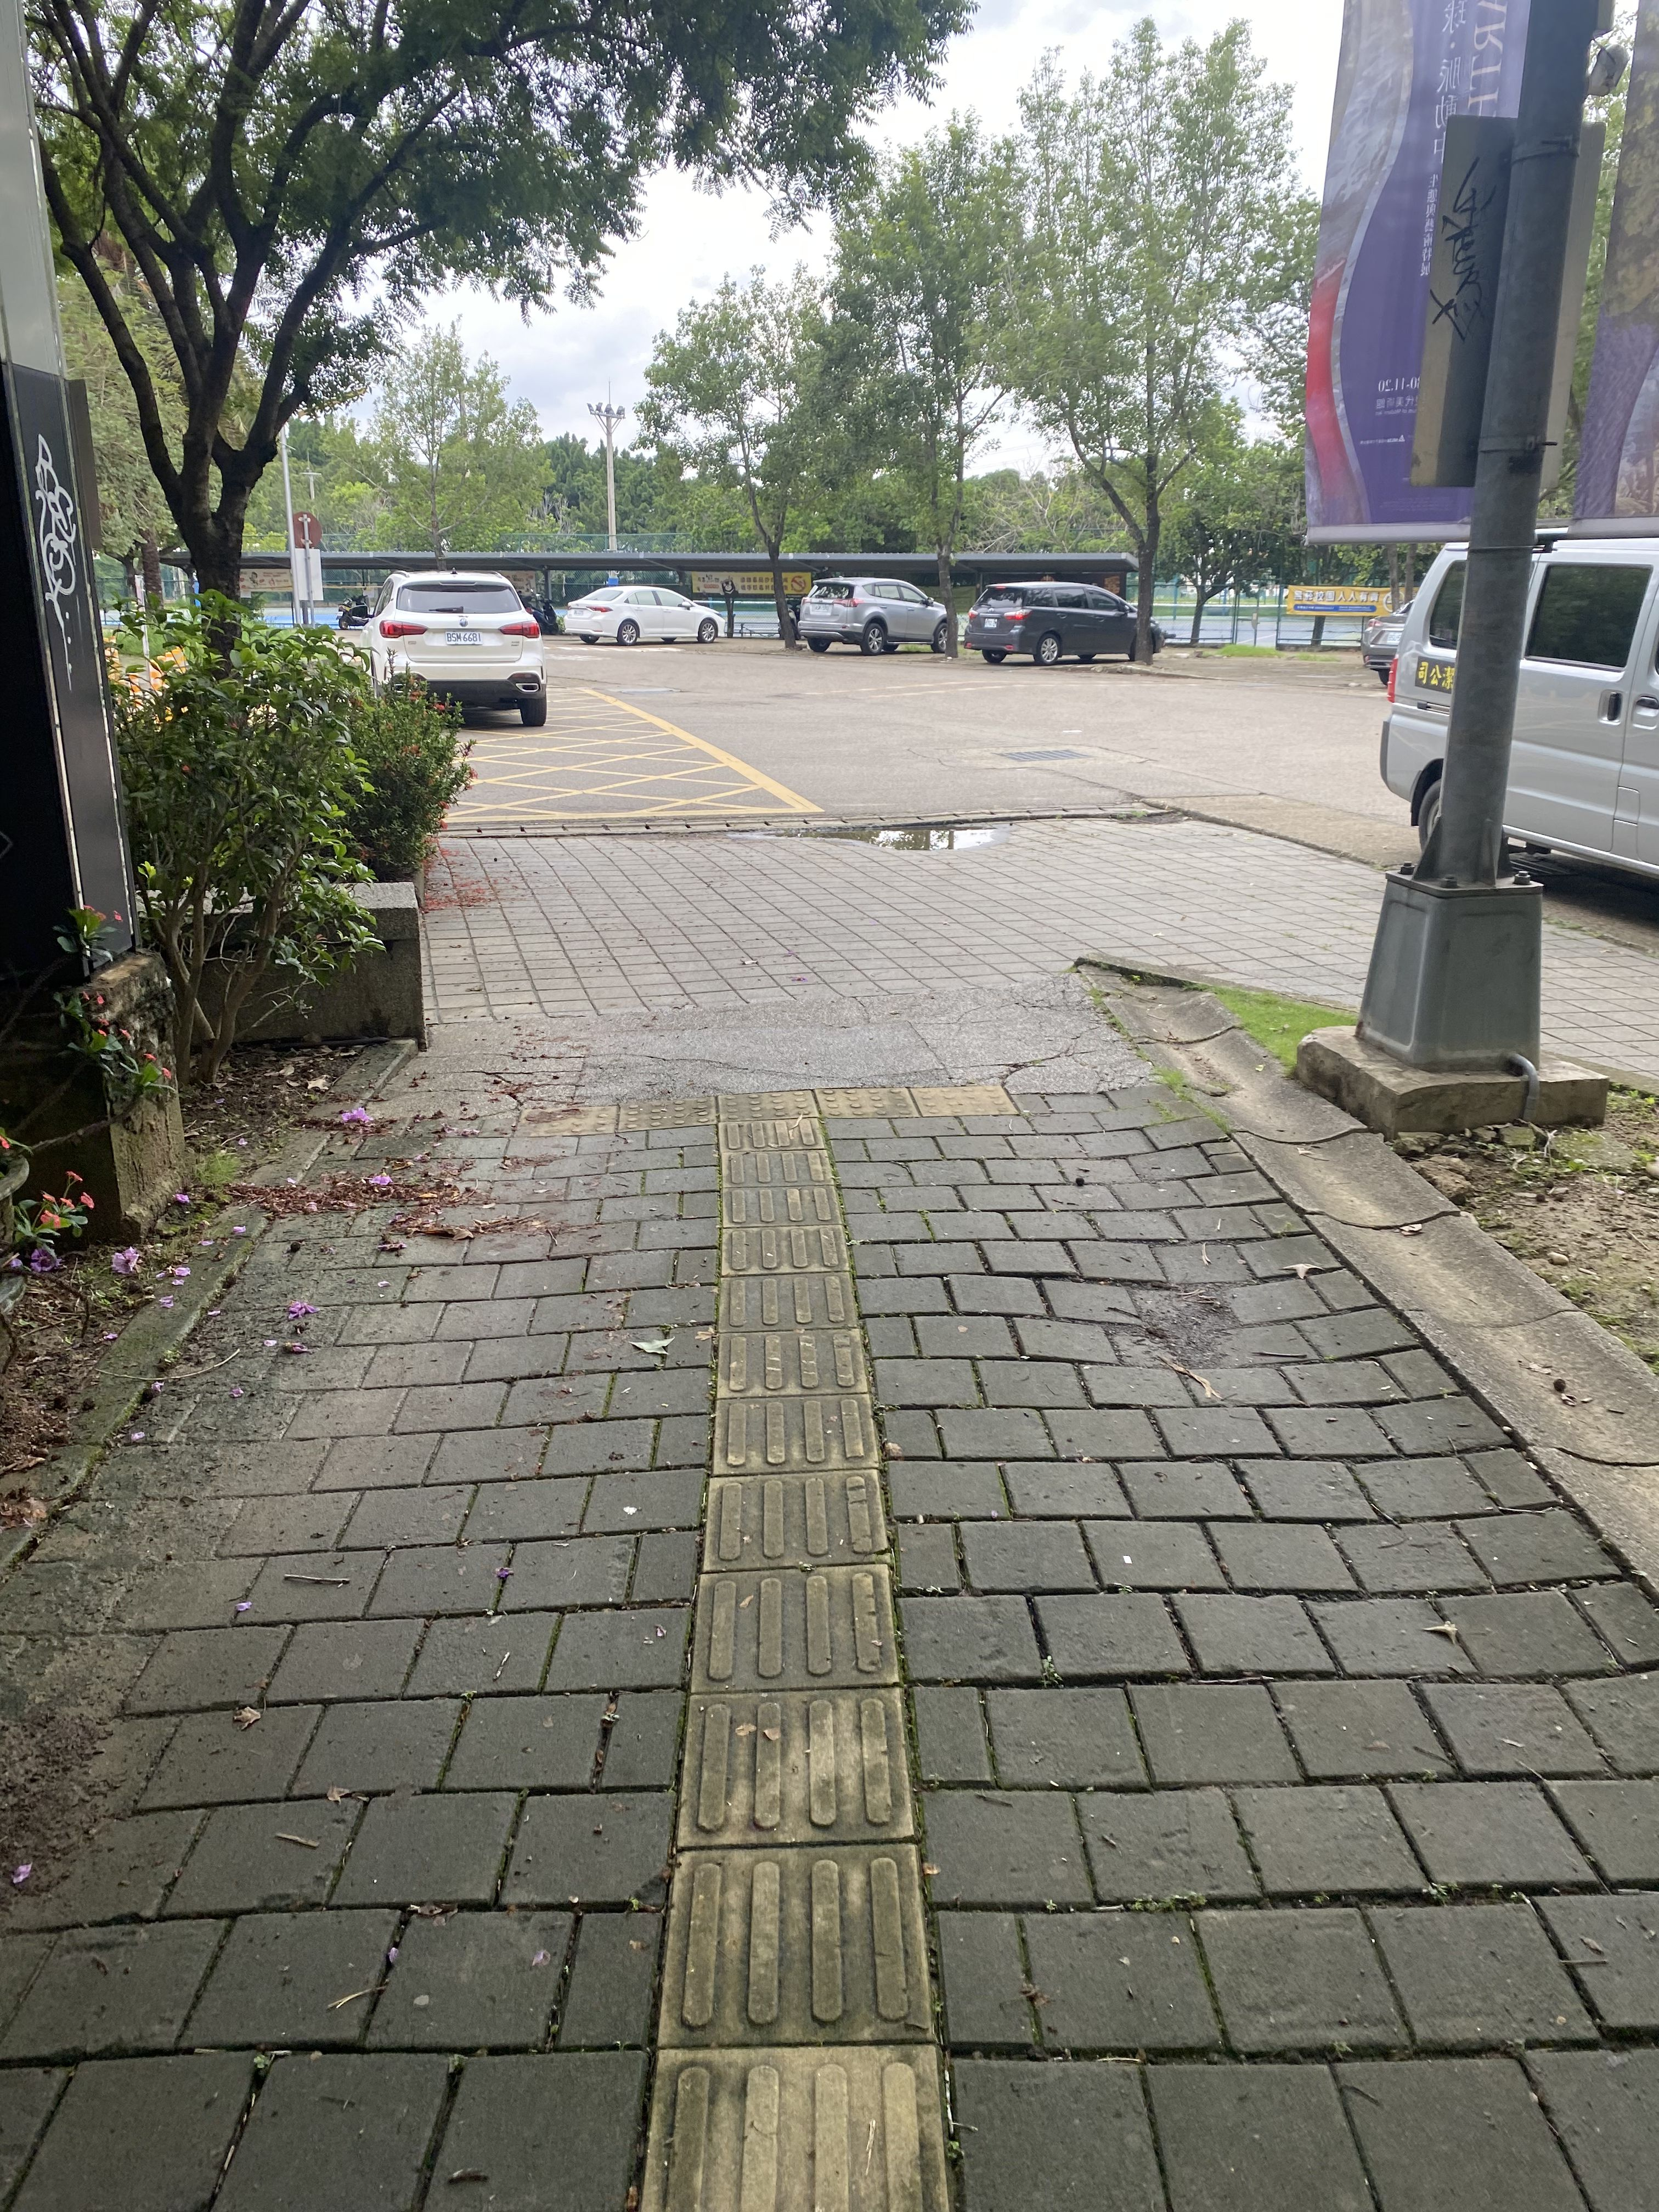sidewalk: (0, 779, 1659, 2212)
